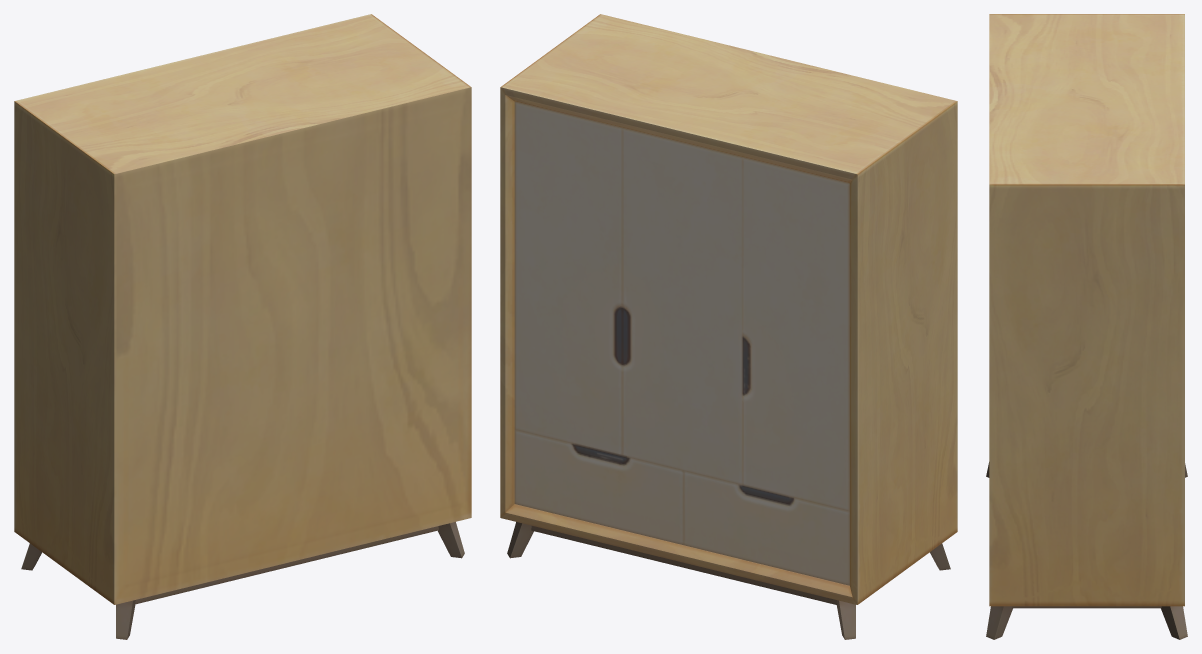
File: P_Cabinet_006_S1_M01.obj
The picture shows the model from 3 angles, left to right: view 1: azimuth 30°, elevation 25°; view 2: azimuth 150°, elevation 25°; view 3: azimuth 270°, elevation 25°; orthographic projection. The views are drawn at different scales.
Size of the model in its own units: 2 by 2.5 by 1.
1 material, 1 textured.
